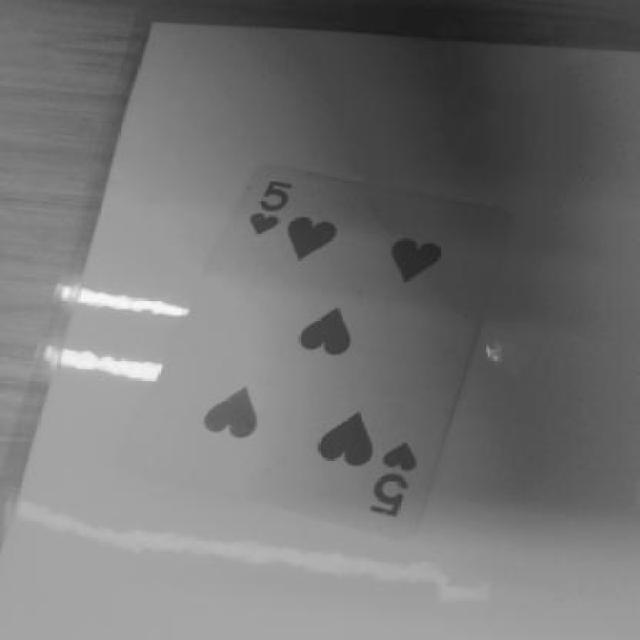5H: (358, 425, 440, 533), (230, 171, 310, 257)
